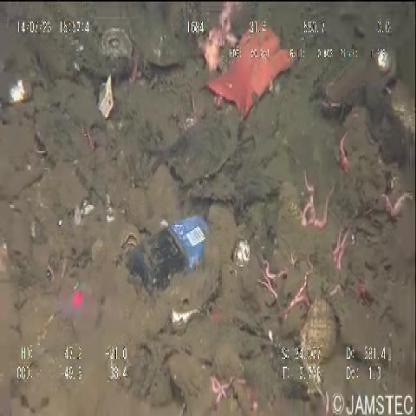Rác: (125, 214, 213, 298)
